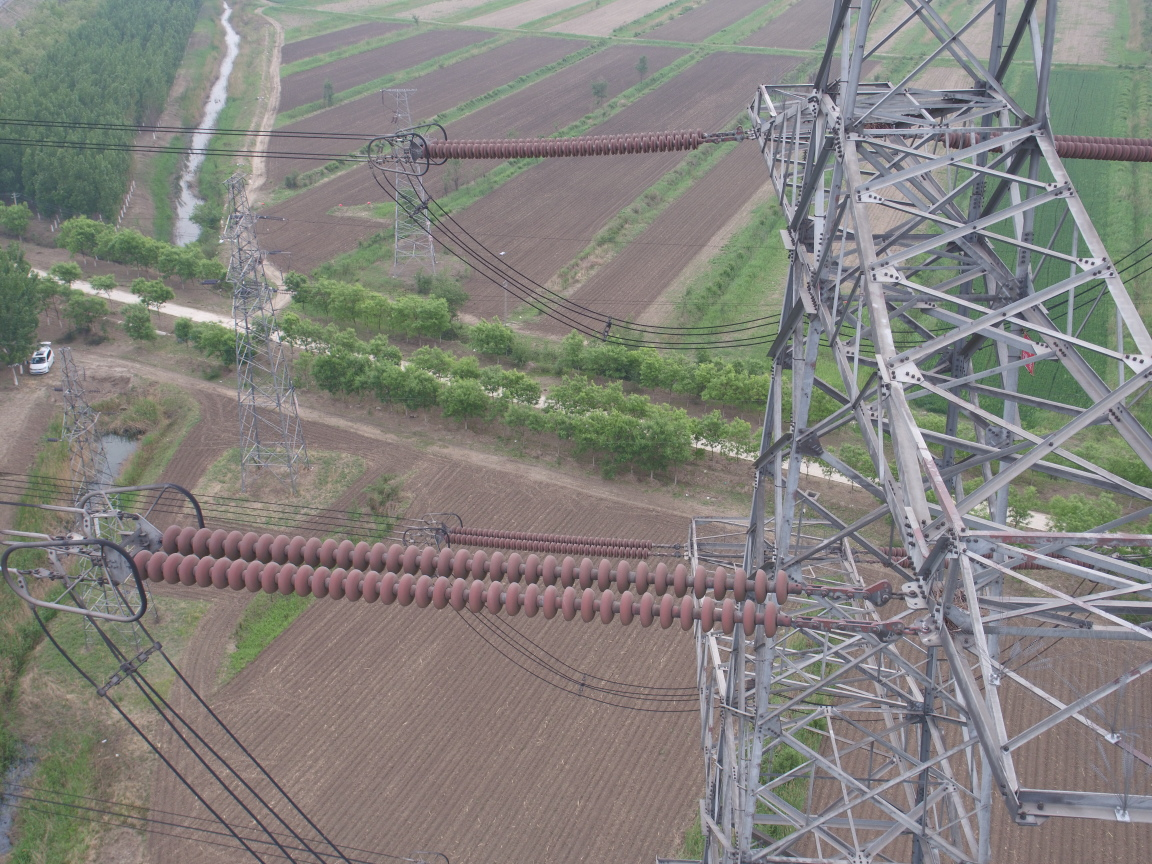insulator: (121, 513, 856, 640), (417, 125, 722, 165), (437, 523, 665, 561)
